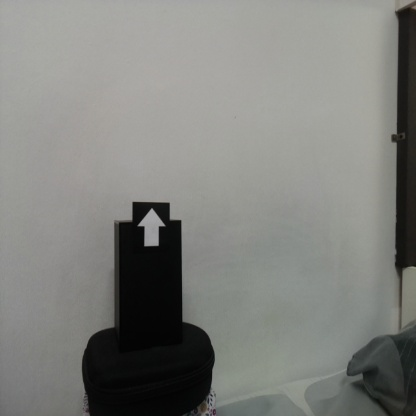id_1: (132, 203, 170, 255)
